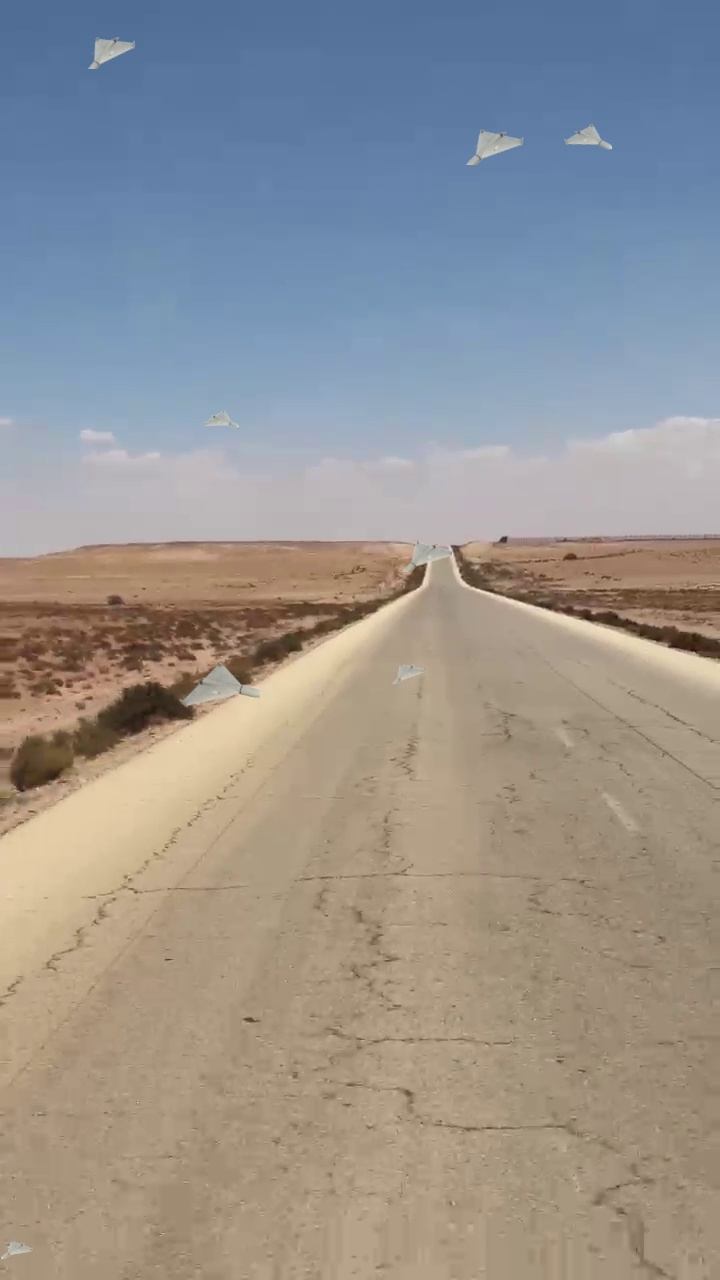shahed: (178, 663, 260, 711), (461, 127, 524, 165), (80, 35, 138, 69), (398, 540, 454, 572), (564, 124, 612, 152), (390, 663, 426, 685), (204, 410, 240, 430), (0, 1240, 32, 1258)
